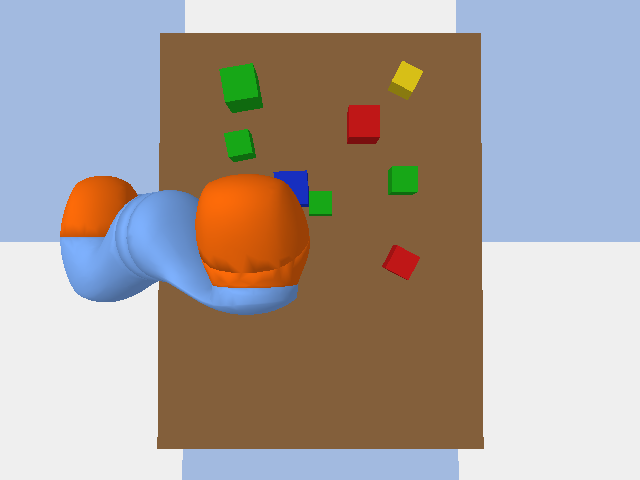blue_obj: (273, 170, 308, 206)
green_obj: (219, 63, 262, 112), (224, 129, 255, 161), (388, 166, 417, 194), (309, 191, 331, 215)
red_obj: (382, 245, 419, 279), (347, 105, 379, 143)
yellow_obj: (388, 61, 422, 99)
